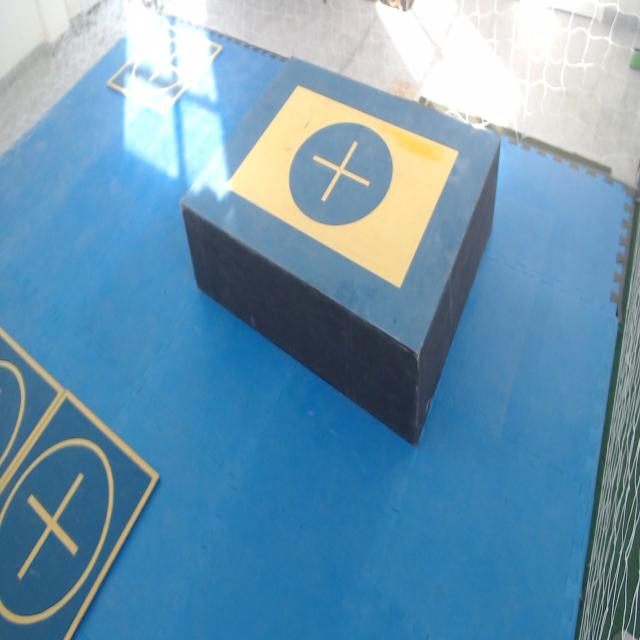base_inicio: (225, 83, 460, 291)
base_pouso: (0, 389, 160, 639), (105, 19, 224, 119), (0, 322, 65, 489)
